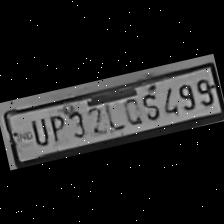2: (82, 98, 108, 136)
3: (62, 104, 89, 141)
4: (156, 82, 180, 118)
9: (190, 72, 218, 108), (174, 78, 198, 112)
L: (100, 94, 123, 132)
P: (44, 110, 70, 144)
Q: (117, 90, 143, 128)
S: (137, 86, 162, 123)
U: (25, 113, 52, 149)
